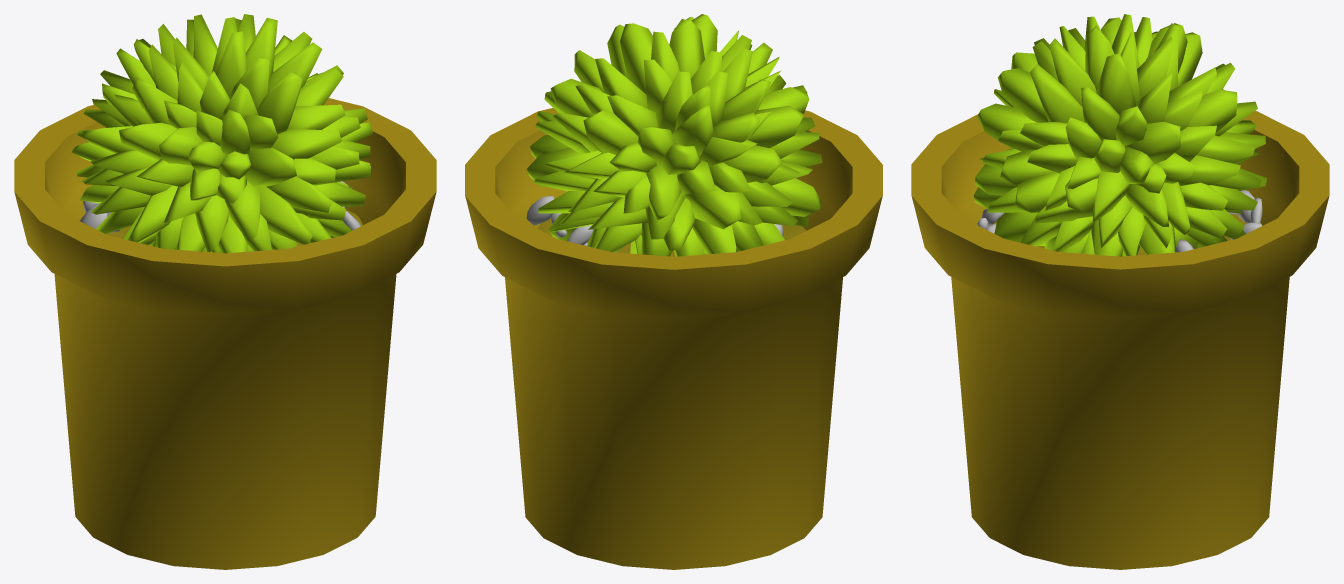
The model's file is Plant.glb.
3 renders of one model, left to right at view 1: azimuth 30°, elevation 25°; view 2: azimuth 150°, elevation 25°; view 3: azimuth 270°, elevation 25°, orthographic.
Visible parts, largest first — view 1: Cylinder001, arch24_002_05, arch24_002_08; view 2: Cylinder001, arch24_002_05, arch24_002_08, arch24_002_00; view 3: Cylinder001, arch24_002_05, arch24_002_08.
Boxes of the visible parts, box(x1,y1,x2,y2) form: Cylinder001: box(14, 98, 436, 569); arch24_002_05: box(72, 14, 373, 253); arch24_002_08: box(79, 181, 360, 232); Cylinder001: box(465, 108, 882, 569); arch24_002_05: box(527, 14, 822, 256); arch24_002_08: box(526, 195, 783, 245); arch24_002_00: box(537, 218, 806, 256); Cylinder001: box(911, 110, 1329, 569); arch24_002_05: box(973, 14, 1267, 256); arch24_002_08: box(977, 190, 1262, 252).
Bounding box in the file's own units: 0.1641 × 0.2039 × 0.1616.
